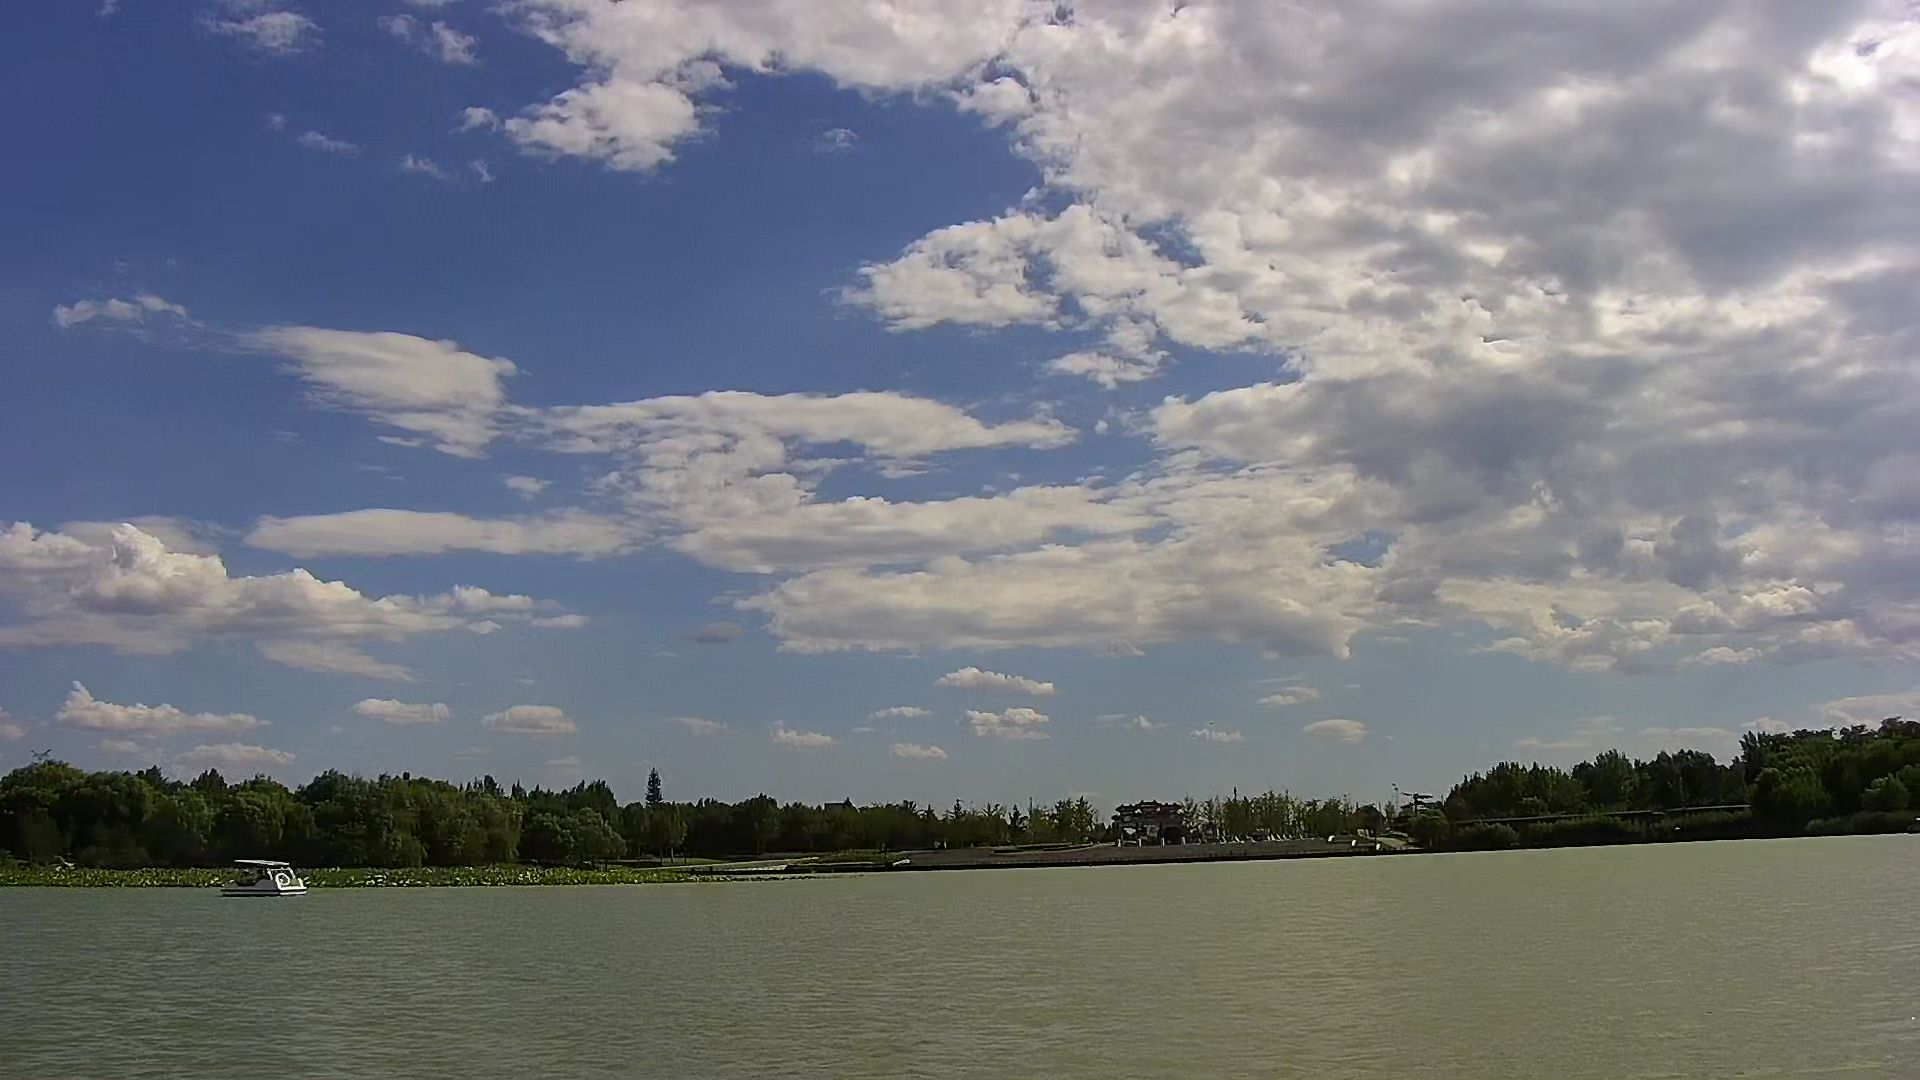boat: (218, 858, 303, 899)
grass: (8, 860, 717, 895)
